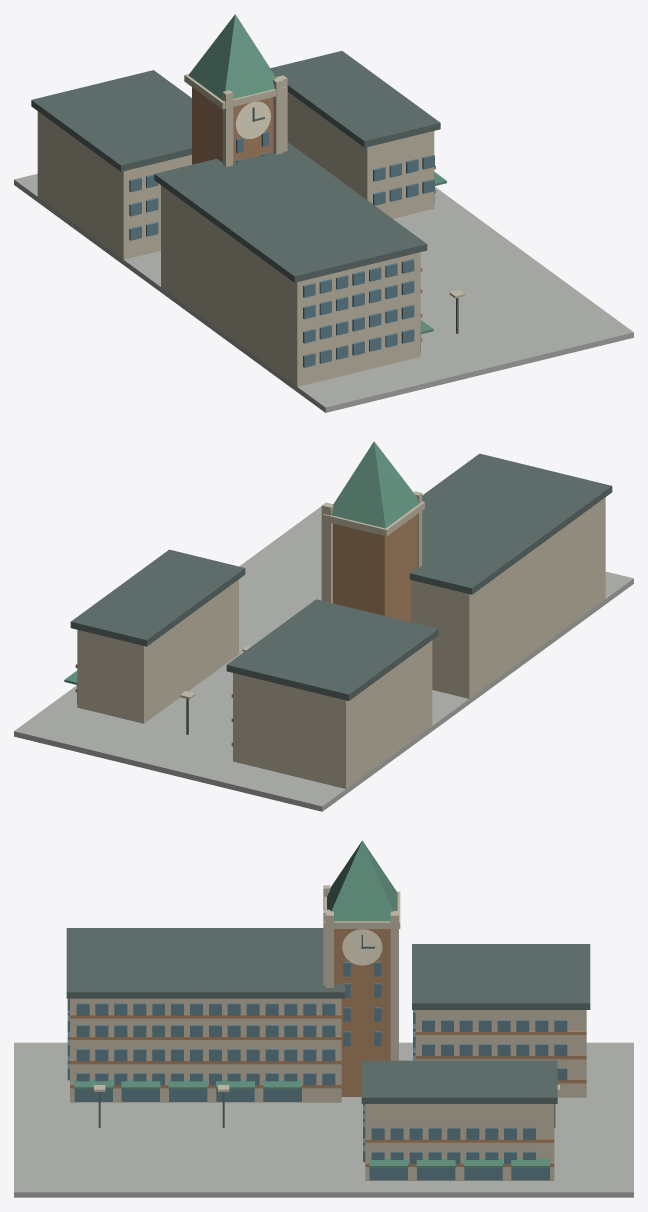
Rendered from preview.glb.
The picture shows the model from 3 angles, top to bottom: view 1: azimuth 30°, elevation 25°; view 2: azimuth 150°, elevation 25°; view 3: azimuth 270°, elevation 25°; orthographic projection.
Parts seen in each view (by area): view 1: wangfujing/Wangfujing stone, wangfujing/Wangfujing metal, wangfujing/Wangfujing paving, wangfujing/Wangfujing glass, wangfujing/Wangfujing roof, wangfujing/Wangfujing brick, wangfujing/Wangfujing dial; view 2: wangfujing/Wangfujing stone, wangfujing/Wangfujing metal, wangfujing/Wangfujing paving, wangfujing/Wangfujing brick, wangfujing/Wangfujing roof; view 3: wangfujing/Wangfujing paving, wangfujing/Wangfujing metal, wangfujing/Wangfujing stone, wangfujing/Wangfujing glass, wangfujing/Wangfujing brick, wangfujing/Wangfujing roof, wangfujing/Wangfujing dial.
Boxes of the visible parts, x1=… form: wangfujing/Wangfujing stone: x1=37, y1=74, x2=464, y2=386; wangfujing/Wangfujing metal: x1=31, y1=51, x2=458, y2=333; wangfujing/Wangfujing paving: x1=14, y1=174, x2=633, y2=412; wangfujing/Wangfujing glass: x1=129, y1=131, x2=434, y2=367; wangfujing/Wangfujing roof: x1=188, y1=14, x2=446, y2=334; wangfujing/Wangfujing brick: x1=192, y1=87, x2=435, y2=341; wangfujing/Wangfujing dial: x1=236, y1=101, x2=270, y2=138; wangfujing/Wangfujing stone: x1=77, y1=491, x2=605, y2=788; wangfujing/Wangfujing metal: x1=70, y1=453, x2=612, y2=734; wangfujing/Wangfujing paving: x1=14, y1=506, x2=633, y2=811; wangfujing/Wangfujing brick: x1=75, y1=515, x2=416, y2=746; wangfujing/Wangfujing roof: x1=64, y1=441, x2=420, y2=684; wangfujing/Wangfujing paving: x1=14, y1=1042, x2=633, y2=1197; wangfujing/Wangfujing metal: x1=66, y1=928, x2=590, y2=1127; wangfujing/Wangfujing stone: x1=70, y1=885, x2=586, y2=1180; wangfujing/Wangfujing glass: x1=67, y1=962, x2=567, y2=1180; wangfujing/Wangfujing brick: x1=70, y1=929, x2=586, y2=1166; wangfujing/Wangfujing roof: x1=74, y1=840, x2=549, y2=1167; wangfujing/Wangfujing dial: x1=342, y1=929, x2=382, y2=965.
Size of the model in its own units: 0.522 by 0.3986 by 0.9.
